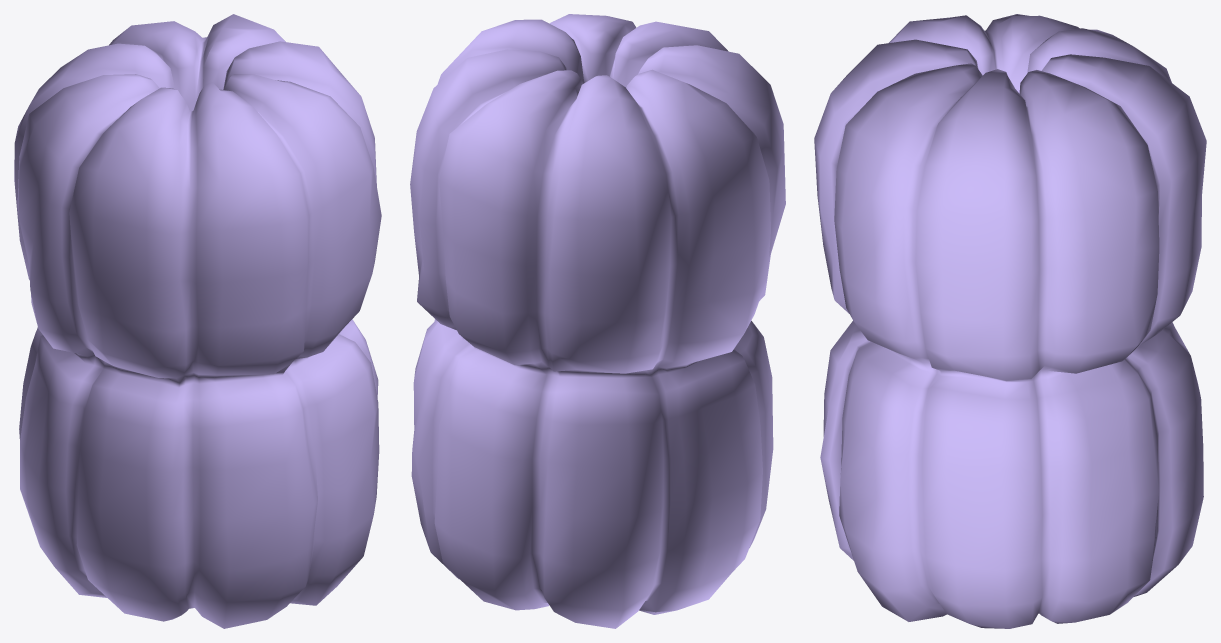
The model's file is nuclear_pore.fbx.
3 renders of one model, left to right at view 1: azimuth 30°, elevation 25°; view 2: azimuth 150°, elevation 25°; view 3: azimuth 270°, elevation 25°, orthographic. The views are drawn at different scales.
Parts seen in each view (by area): view 1: Nuclear_Membrane_Protein; view 2: Nuclear_Membrane_Protein; view 3: Nuclear_Membrane_Protein.
Boxes of the visible parts, left/top/right/bottom form: Nuclear_Membrane_Protein: left=14, top=14, right=381, bottom=628; Nuclear_Membrane_Protein: left=410, top=14, right=785, bottom=628; Nuclear_Membrane_Protein: left=814, top=14, right=1206, bottom=628.
Bounding box in the file's own units: 63.38 × 99.69 × 65.21.
